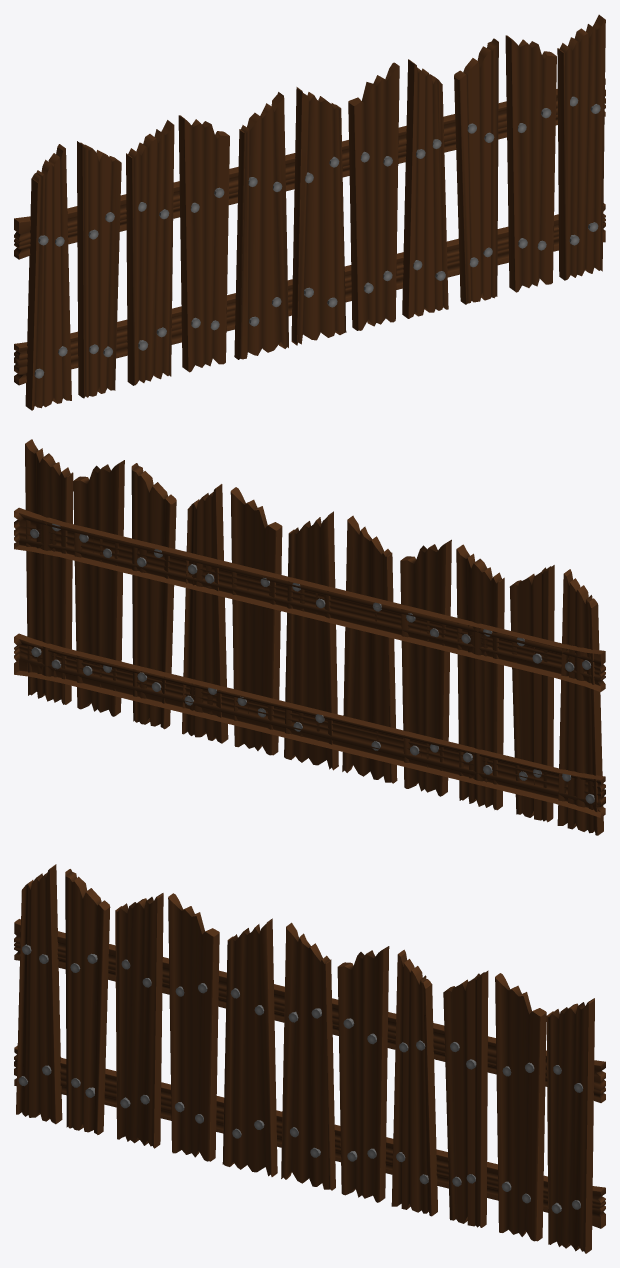
Rendered from Fence 2.fbx.
3 views of the same model, one above another, from view 1: azimuth 30°, elevation 25°; view 2: azimuth 150°, elevation 25°; view 3: azimuth 330°, elevation 25° (orthographic).
Visible parts, largest first — view 1: pCube52; view 2: pCube52; view 3: pCube52.
Part boxes in pixels (x1,y1,x2,y2): pCube52: [14, 14, 605, 410]; pCube52: [14, 439, 605, 835]; pCube52: [14, 864, 605, 1253].
Bounding box in the file's own units: 7.59 × 3.15 × 0.2778.
